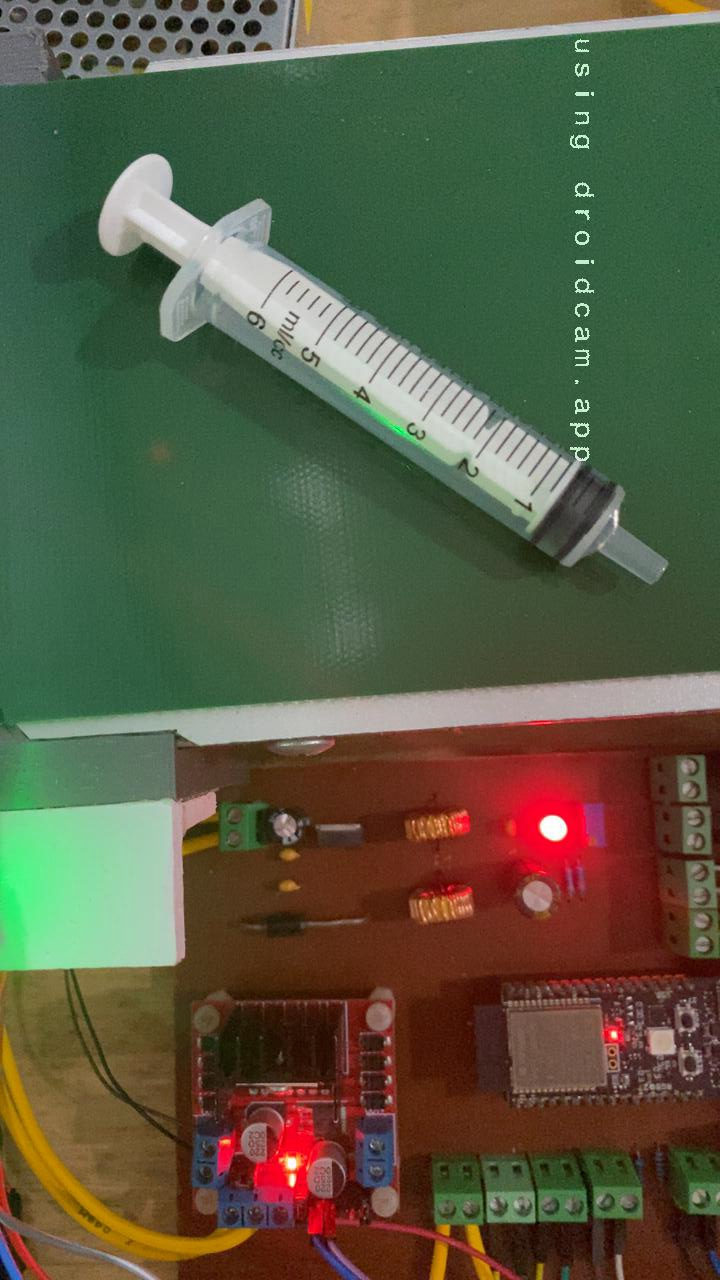syringe: (91, 147, 674, 585)
